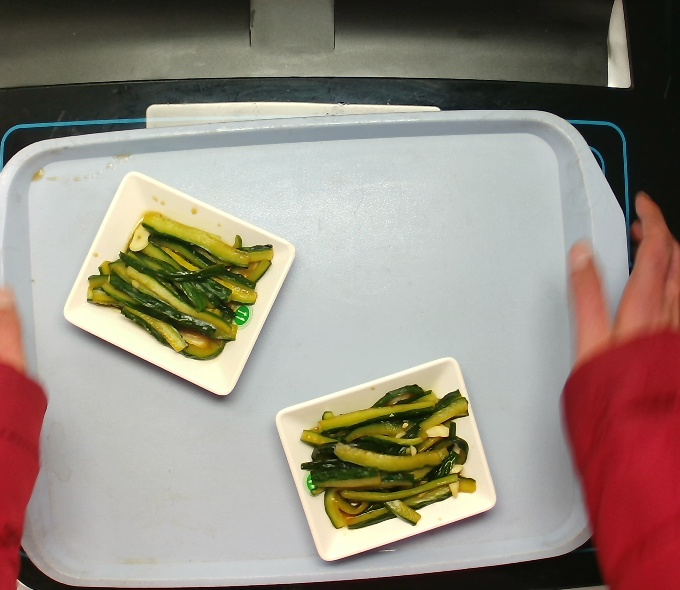wcq-LiangBanHuangGua: (80, 206, 277, 366), (295, 380, 479, 534)
